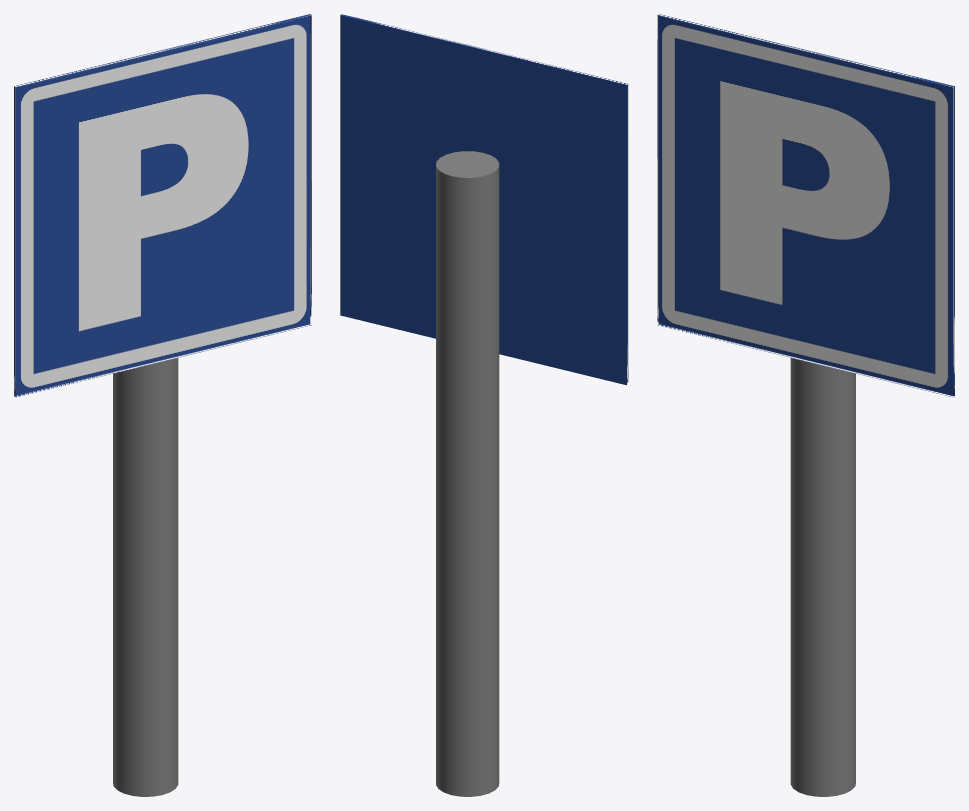
File: park.fbx
The picture shows the model from 3 angles, left to right: view 1: azimuth 30°, elevation 25°; view 2: azimuth 150°, elevation 25°; view 3: azimuth 330°, elevation 25°; orthographic projection. The views are drawn at different scales.
Visible parts, largest first — view 1: pCube1, pCylinder1; view 2: pCube1, pCylinder1; view 3: pCube1, pCylinder1.
Part boxes in pixels (left/top/right/bottom): pCube1: left=14, top=14, right=311, bottom=397; pCylinder1: left=113, top=358, right=178, bottom=796; pCube1: left=340, top=14, right=628, bottom=385; pCylinder1: left=436, top=151, right=499, bottom=796; pCube1: left=657, top=14, right=954, bottom=397; pCylinder1: left=790, top=358, right=855, bottom=796.
Size of the model in its own units: 1 by 2.4 by 0.203.
2 materials, 1 textured.
